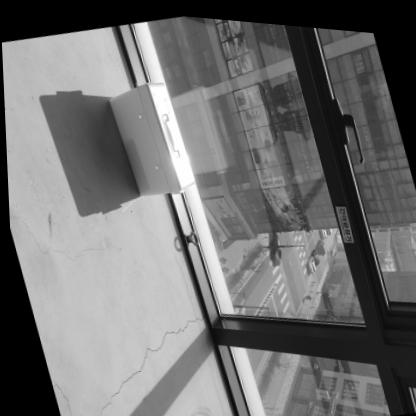DDL: (103, 71, 197, 204)
